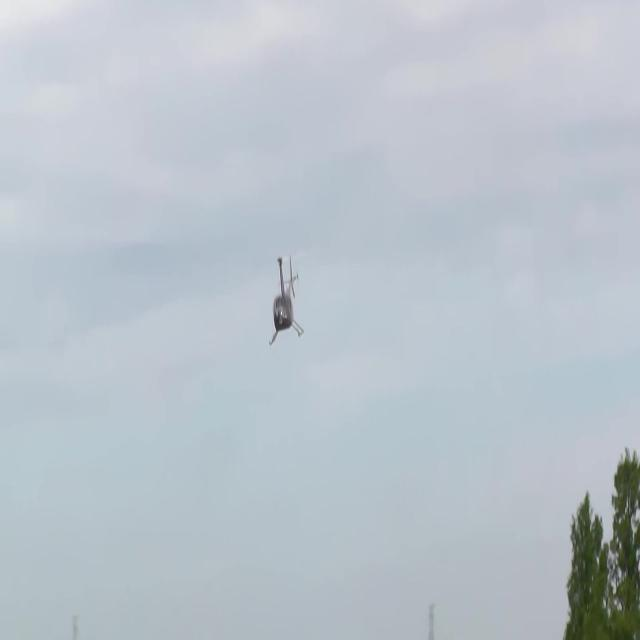CIV_HELO: (268, 254, 305, 349)
